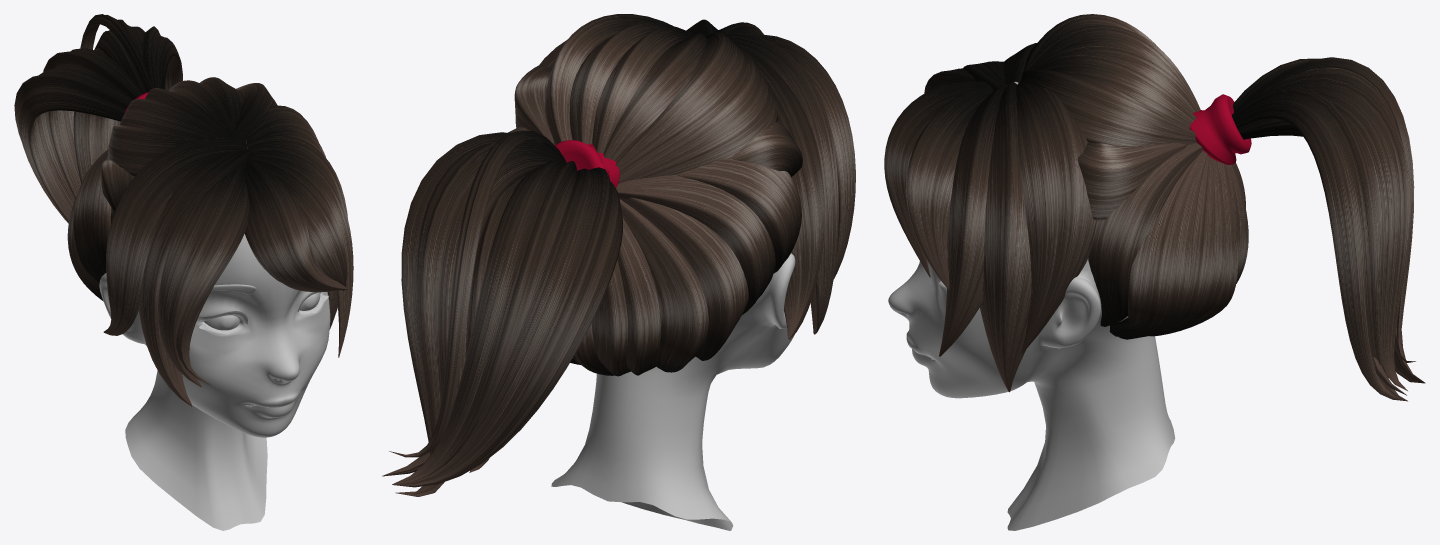
Rendered from free_hair.glb.
The picture shows the model from 3 angles, left to right: view 1: azimuth 30°, elevation 25°; view 2: azimuth 150°, elevation 25°; view 3: azimuth 270°, elevation 25°; orthographic projection. The views are drawn at different scales.
Visible parts, largest first — view 1: Object_6, Object_4, Object_3, Object_5; view 2: Object_3, Object_5, Object_6, Object_4, Object_2; view 3: Object_4, Object_3, Object_6, Object_5, Object_2.
Boxes of the visible parts, x1,y1,x2,y2 form: Object_6: [99, 234, 330, 530]; Object_4: [139, 105, 353, 406]; Object_3: [67, 77, 277, 335]; Object_5: [14, 14, 182, 223]; Object_3: [507, 14, 824, 376]; Object_5: [382, 130, 622, 496]; Object_6: [551, 253, 795, 530]; Object_4: [539, 19, 855, 334]; Object_2: [555, 140, 619, 188]; Object_4: [884, 61, 1096, 392]; Object_3: [1003, 14, 1248, 339]; Object_6: [888, 82, 1175, 530]; Object_5: [1231, 57, 1425, 401]; Object_2: [1189, 94, 1251, 164].
Bounding box in the file's own units: 0.7925 × 1.37 × 1.41.
4 materials, 2 textured.
